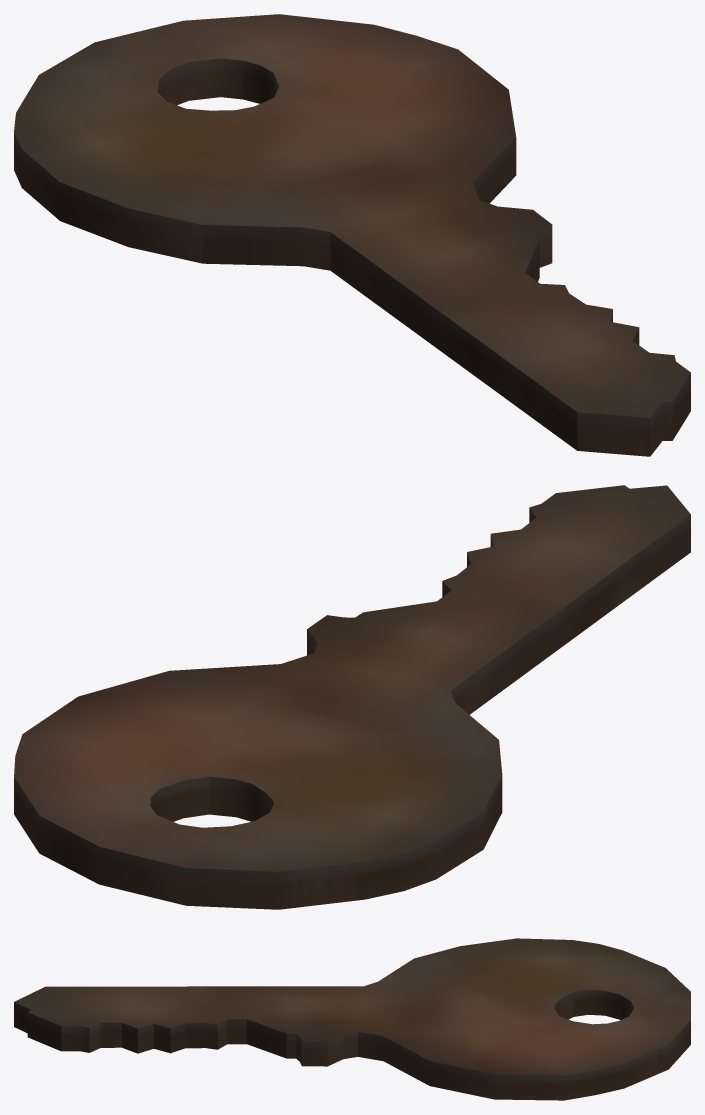
The model's file is key_mp_1_1.obj.
The picture shows the model from 3 angles, top to bottom: view 1: azimuth 30°, elevation 25°; view 2: azimuth 150°, elevation 25°; view 3: azimuth 270°, elevation 25°; orthographic projection. The views are drawn at different scales.
Parts seen in each view (by area): view 1: key_mp_1_1; view 2: key_mp_1_1; view 3: key_mp_1_1.
Part boxes in pixels (box(x1,y1,x2,y2)): key_mp_1_1: box(14, 14, 690, 456); key_mp_1_1: box(14, 485, 690, 909); key_mp_1_1: box(14, 938, 690, 1100).
Size of the model in its own units: 0.0352 by 0.00301 by 0.0735.
